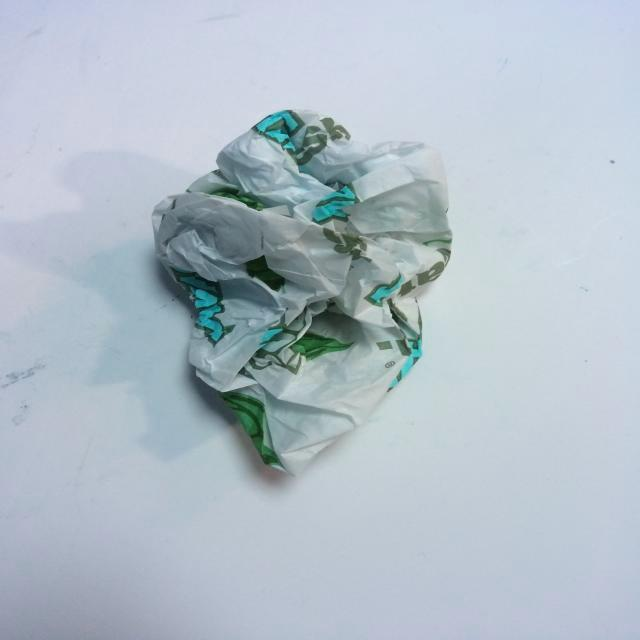paper: (128, 95, 467, 526)
